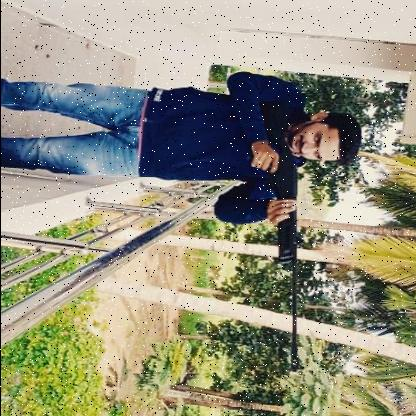rifle: (256, 100, 306, 374)
